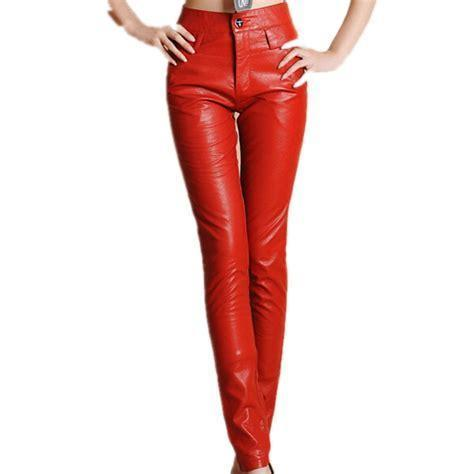pants: (163, 6, 308, 472)
